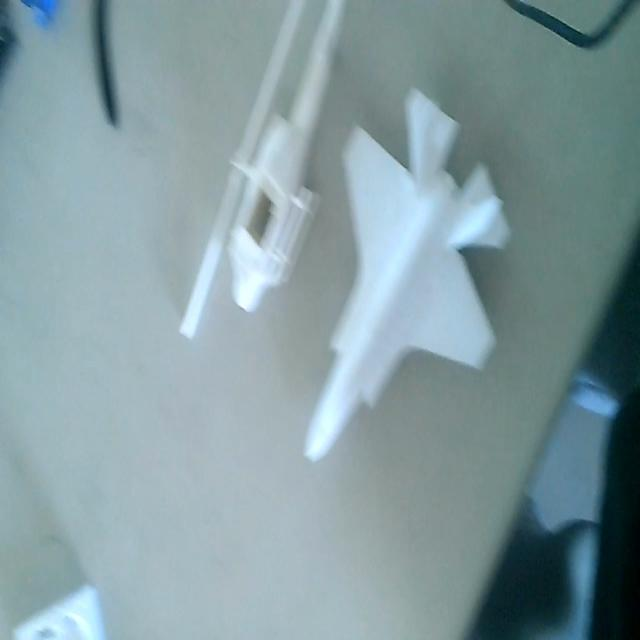Helicopter: (180, 0, 344, 355)
Jet: (297, 80, 511, 465)
